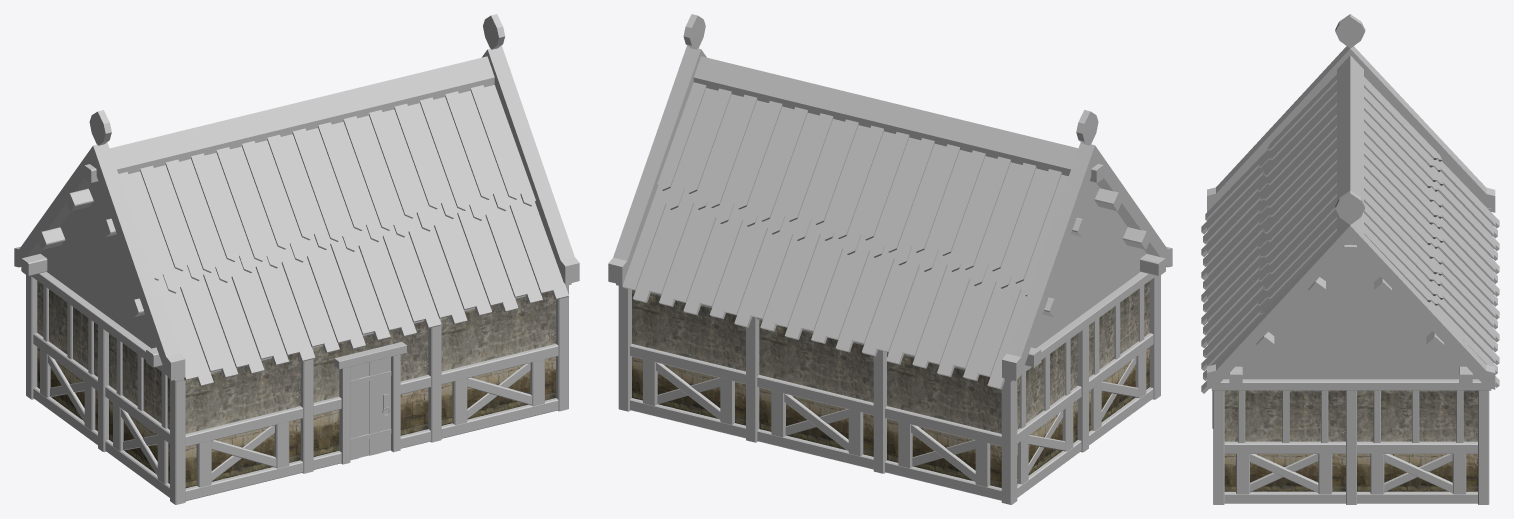
The model's file is 7Building.fbx.
3 views of the same model, side by side, from view 1: azimuth 30°, elevation 25°; view 2: azimuth 150°, elevation 25°; view 3: azimuth 270°, elevation 25° (orthographic). The views are drawn at different scales.
Visible parts, largest first — view 1: Plane.029; view 2: Plane.029; view 3: Plane.029.
Boxes of the visible parts, x1,y1,x2,y2 form: Plane.029: (14,14,579,504); Plane.029: (608,14,1172,504); Plane.029: (1201,14,1499,504).
Size of the model in its own units: 9.86 by 7.65 by 6.61.
